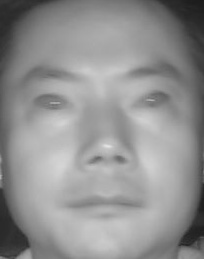eye: (32, 90, 72, 117), (130, 89, 170, 111)
mouth: (63, 181, 146, 227)
